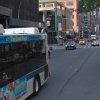buses: (0, 26, 50, 100)
